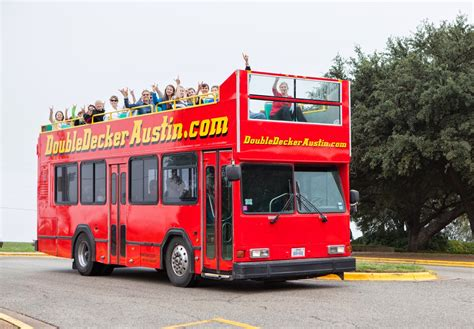bus: (39, 81, 351, 281)
person: (272, 79, 306, 122), (103, 96, 124, 119), (133, 91, 153, 114), (48, 109, 65, 129)
